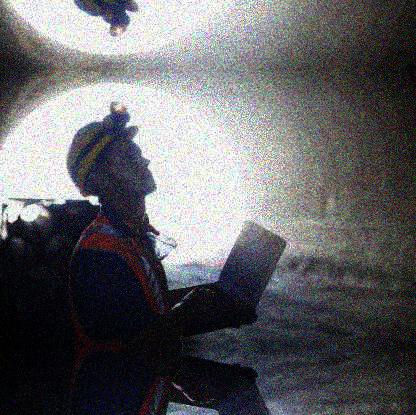helmet: (66, 102, 158, 204)
